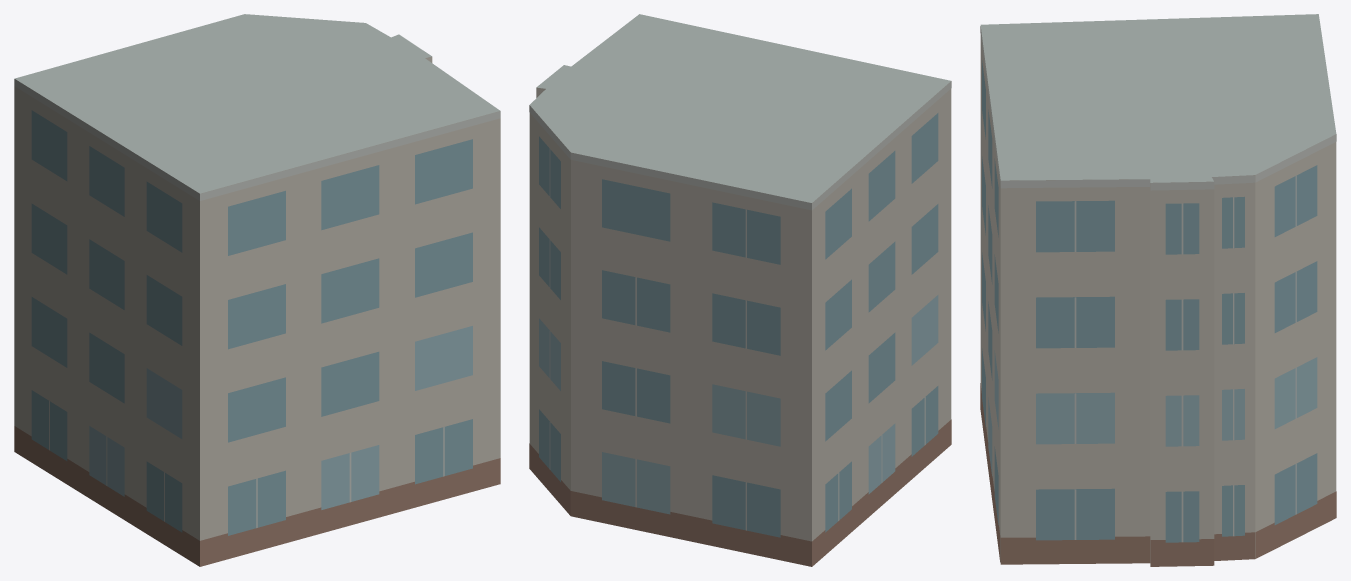
The model's file is survey-upis-32668289.glb.
3 views of the same model, side by side, from view 1: azimuth 30°, elevation 25°; view 2: azimuth 150°, elevation 25°; view 3: azimuth 270°, elevation 25° (orthographic). The views are drawn at different scales.
Visible parts, largest first — view 1: survey-upis-32668289.tmp; view 2: survey-upis-32668289.tmp; view 3: survey-upis-32668289.tmp.
Boxes of the visible parts, x1,y1,x2,y2 form: survey-upis-32668289.tmp: (14,14,500,566); survey-upis-32668289.tmp: (529,14,951,566); survey-upis-32668289.tmp: (980,14,1336,566).
Bounding box in the file's own units: 11.51 × 12.2 × 10.26.
